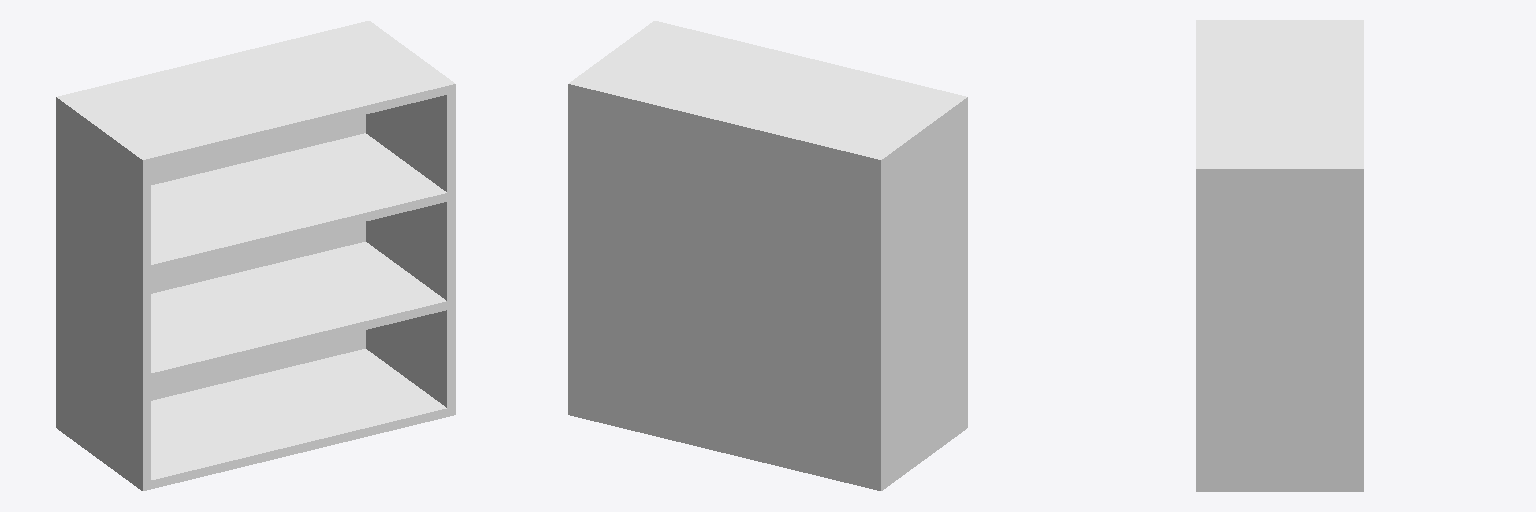
robot.urdf — three_shelves:
<?xml version=".0"?>
<robot name="three_shelves">
  <link name="base"></link>

  <link name="shelf1">
    <visual>
      <material name="white">
        <color rgba="1 1 1 1"/>
      </material>
      <geometry>
        <box size="0.7635875 0.365125 0.0206375" />
      </geometry>
    </visual>
    <collision>
      <geometry>
        <box size="0.7635875 0.365125 0.0206375" />
      </geometry>
    </collision>
  </link>
  <joint name="base_to_shelf1" type="fixed">
    <parent link="base"/>
    <child link="shelf1"/>
    <origin xyz="0 0 0.01031875"/>
  </joint>

  <link name="shelf2">
    <visual>
      <material name="white">
        <color rgba="1 1 1 1"/>
      </material>
      <geometry>
        <box size="0.7635875 0.365125 0.0206375" />
      </geometry>
    </visual>
    <collision>
      <geometry>
        <box size="0.7635875 0.365125 0.0206375" />
      </geometry>
    </collision>
  </link>
  <joint name="base_to_shelf2" type="fixed">
    <parent link="base"/>
    <child link="shelf2"/>
    <origin xyz="0 0 0.25955625"/>
  </joint>

  <link name="shelf3">
    <visual>
      <material name="white">
        <color rgba="1 1 1 1"/>
      </material>
      <geometry>
        <box size="0.7635875 0.365125 0.0206375" />
      </geometry>
    </visual>
    <collision>
      <geometry>
        <box size="0.7635875 0.365125 0.0206375" />
      </geometry>
    </collision>
  </link>
  <joint name="base_to_shelf3" type="fixed">
    <parent link="base"/>
    <child link="shelf3"/>
    <origin xyz="0 0 0.51196875"/>
  </joint>

  <link name="shelf4">
    <visual>
      <material name="white">
        <color rgba="1 1 1 1"/>
      </material>
      <geometry>
        <box size="0.7635875 0.365125 0.0206375" />
      </geometry>
    </visual>
    <collision>
      <geometry>
        <box size="0.7635875 0.365125 0.0206375" />
      </geometry>
    </collision>
  </link>
  <joint name="base_to_shelf4" type="fixed">
    <parent link="base"/>
    <child link="shelf4"/>
    <origin xyz="0 0 0.76120625"/>
  </joint>
  <!-- (10 + 10/16 - 13/16)  + (10 + 12/16 - 13/16)  + (10 + 10/16 - 13/16)  + (13/16)/2 -->
  <!-- (30 + 1/16) x (14 + 6/16) x 13/16 -->

  <link name="left_wall">
    <visual>
      <material name="white">
        <color rgba="1 1 1 1"/>
      </material>
      <geometry>
        <box size="0.0206375 0.365125 0.7635875" />
      </geometry>
    </visual>
    <collision>
      <geometry>
        <box size="0.0206375 0.365125 0.7635875" />
      </geometry>
    </collision>
  </link>
  <joint name="base_to_left_wall" type="fixed">
    <parent link="base"/>
    <child link="left_wall"/>
    <origin xyz="-0.371475 0 0.38179375"/>
  </joint>

  <link name="right_wall">
    <visual>
      <material name="white">
        <color rgba="1 1 1 1"/>
      </material>
      <geometry>
        <box size="0.0206375 0.365125 0.7635875" />
      </geometry>
    </visual>
    <collision>
      <geometry>
        <box size="0.0206375 0.365125 0.7635875" />
      </geometry>
    </collision>
  </link>
  <joint name="base_to_right_wall" type="fixed">
    <parent link="base"/>
    <child link="right_wall"/>
    <origin xyz="0.371475 0 0.38179375"/>
  </joint>

  <link name="back_wall">
    <visual>
      <material name="white">
        <color rgba="1 1 1 1"/>
      </material>
      <geometry>
        <box size="0.7635875 0.0206375 0.7635875" />
      </geometry>
    </visual>
    <collision>
      <geometry>
        <box size="0.7635875 0.0206375 0.7635875" />
      </geometry>
    </collision>
  </link>
  <joint name="base_to_back_wall" type="fixed">
    <parent link="base"/>
    <child link="back_wall"/>
    <origin xyz="0 0.17224375 0.38179375"/>
  </joint>

</robot>

--- Render facts (derived) ---
Views: 3 orthographic renders of the robot side by side, from view 1: azimuth 30°, elevation 25°; view 2: azimuth 150°, elevation 25°; view 3: azimuth 270°, elevation 25°.
Model three_shelves with 8 links and 7 joints (7 fixed), rooted at base, posed every joint at zero.
Visible links, largest first — view 1: shelf4, left_wall, shelf2, shelf3, shelf1, right_wall, back_wall; view 2: back_wall, shelf4, left_wall, right_wall, shelf3, shelf1, shelf2; view 3: right_wall, shelf4, shelf1, shelf2, shelf3, back_wall.
Link boxes in pixels (box(x1,y1,x2,y2)): shelf4: box(56, 21, 455, 167); left_wall: box(56, 101, 150, 490); shelf2: box(56, 242, 455, 383); shelf3: box(56, 133, 455, 275); shelf1: box(56, 349, 455, 490); right_wall: box(366, 89, 455, 416); back_wall: box(56, 101, 365, 428); back_wall: box(568, 92, 885, 490); shelf4: box(568, 21, 967, 168); left_wall: box(873, 101, 967, 489); right_wall: box(568, 89, 576, 415); shelf3: box(568, 191, 967, 275); shelf1: box(568, 407, 967, 490); shelf2: box(568, 299, 967, 383); right_wall: box(1196, 173, 1363, 491); shelf4: box(1196, 20, 1363, 177); shelf1: box(1196, 483, 1363, 491); shelf2: box(1196, 379, 1363, 386); shelf3: box(1196, 273, 1363, 281); back_wall: box(1355, 174, 1363, 491).
Bounding box of the posed robot: 0.7636 × 0.3651 × 0.7715 m (x, y, z).
Geometry: primitives only (box / cylinder / sphere), no mesh files.